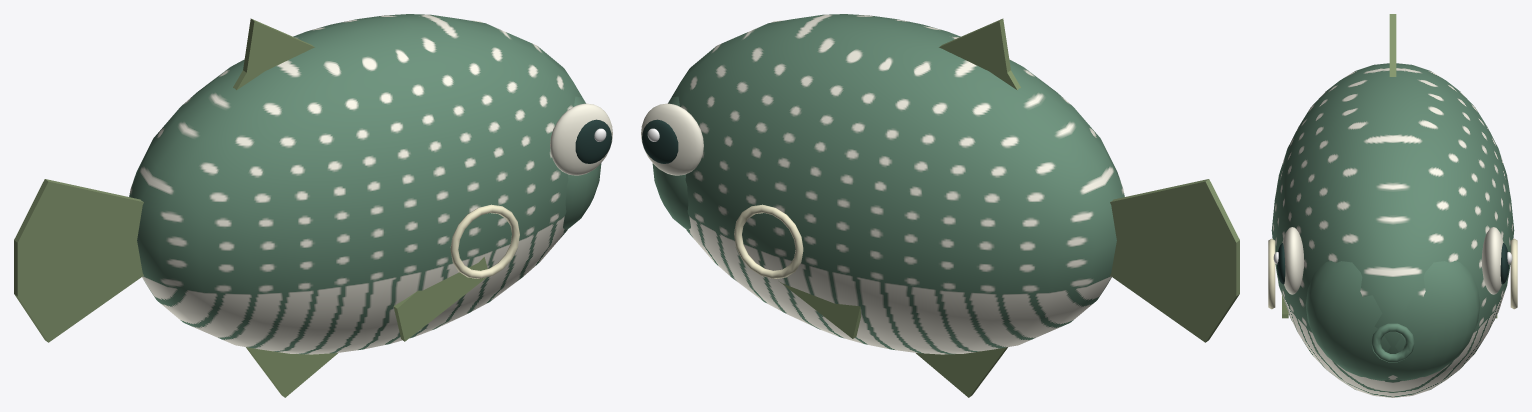
Rendered from arothron-hispidus.glb.
The picture shows the model from 3 angles, left to right: view 1: azimuth 30°, elevation 25°; view 2: azimuth 150°, elevation 25°; view 3: azimuth 270°, elevation 25°; orthographic projection. The views are drawn at different scales.
Parts seen in each view (by area): view 1: arothron-hispidus, tail, pectoral-1; view 2: arothron-hispidus, tail, pectoral-0; view 3: arothron-hispidus, mouth.
Part boxes in pixels (bbox=[...]): arothron-hispidus: bbox=[129, 14, 612, 397]; tail: bbox=[14, 179, 143, 342]; pectoral-1: bbox=[393, 257, 487, 341]; arothron-hispidus: bbox=[641, 14, 1124, 397]; tail: bbox=[1110, 179, 1239, 342]; pectoral-0: bbox=[779, 281, 860, 338]; arothron-hispidus: bbox=[1268, 14, 1517, 397]; mouth: bbox=[1371, 323, 1414, 362].
Bounding box in the file's own units: 2.25 × 1.43 × 0.946.
11 materials, 1 textured.
